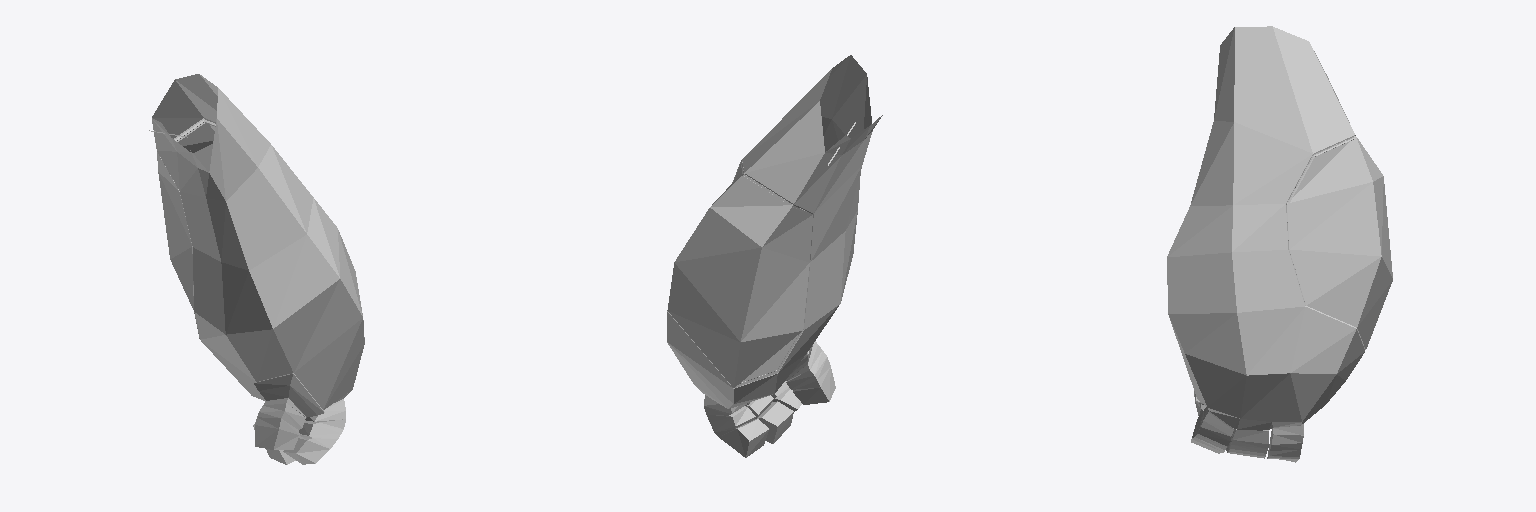
File: baymax_leftarm.obj
The picture shows the model from 3 angles: view 1: azimuth 30°, elevation 25°; view 2: azimuth 150°, elevation 25°; view 3: azimuth 270°, elevation 25°; orthographic projection.
Parts seen in each view (by area): view 1: Bigmax_White_OBJ.005; view 2: Bigmax_White_OBJ.005; view 3: Bigmax_White_OBJ.005.
Part boxes in pixels (x1,y1,x2,y2): Bigmax_White_OBJ.005: (149,74,364,464); Bigmax_White_OBJ.005: (667,55,882,457); Bigmax_White_OBJ.005: (1167,26,1392,462).
Size of the model in its own units: 21.8 by 45.75 by 23.49.